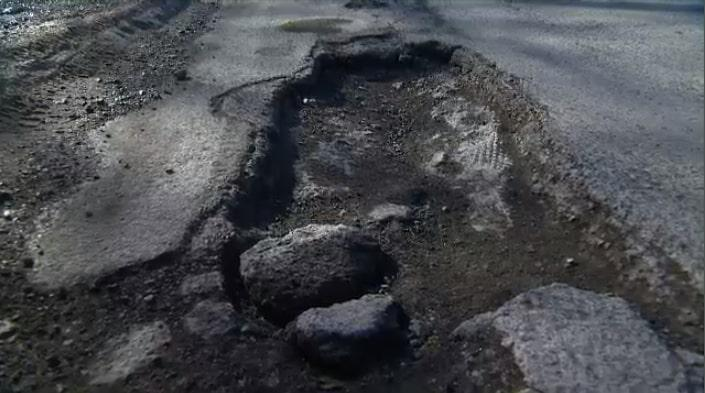Pothole: (10, 19, 685, 393)
